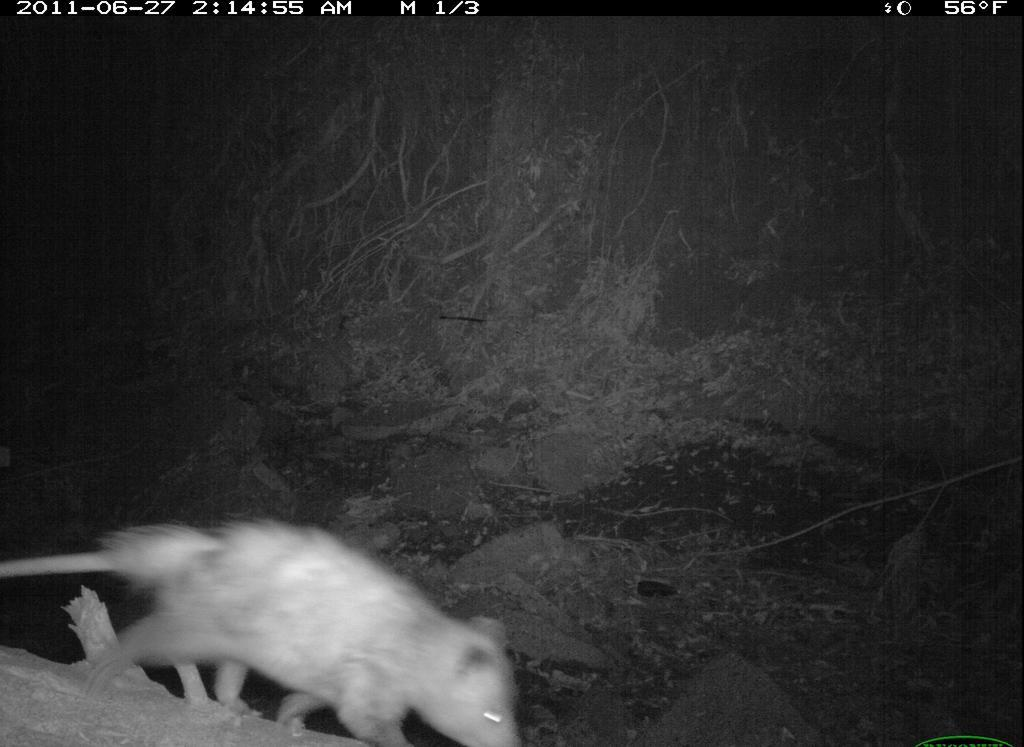opossum: (7, 507, 523, 747)
